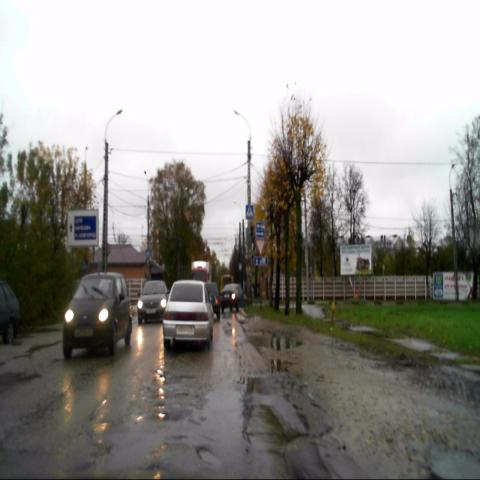2_4: (255, 238, 265, 255), (183, 209, 192, 223)
5_19_1: (246, 205, 253, 219)
